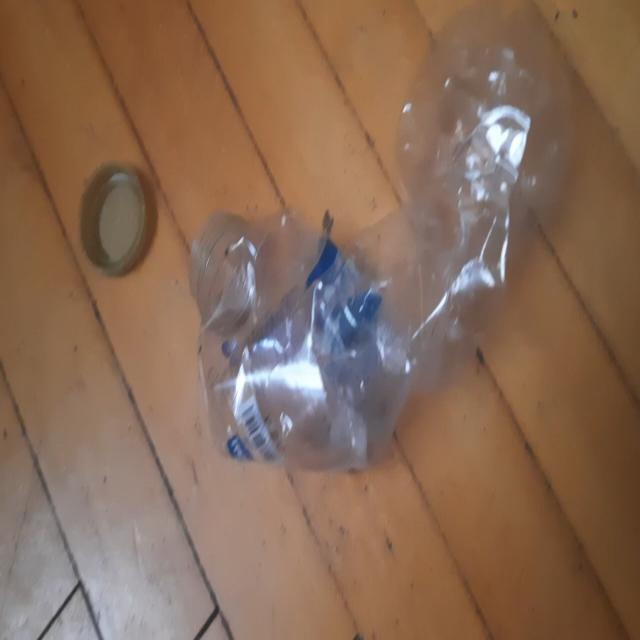Plastic: (190, 2, 570, 473)
